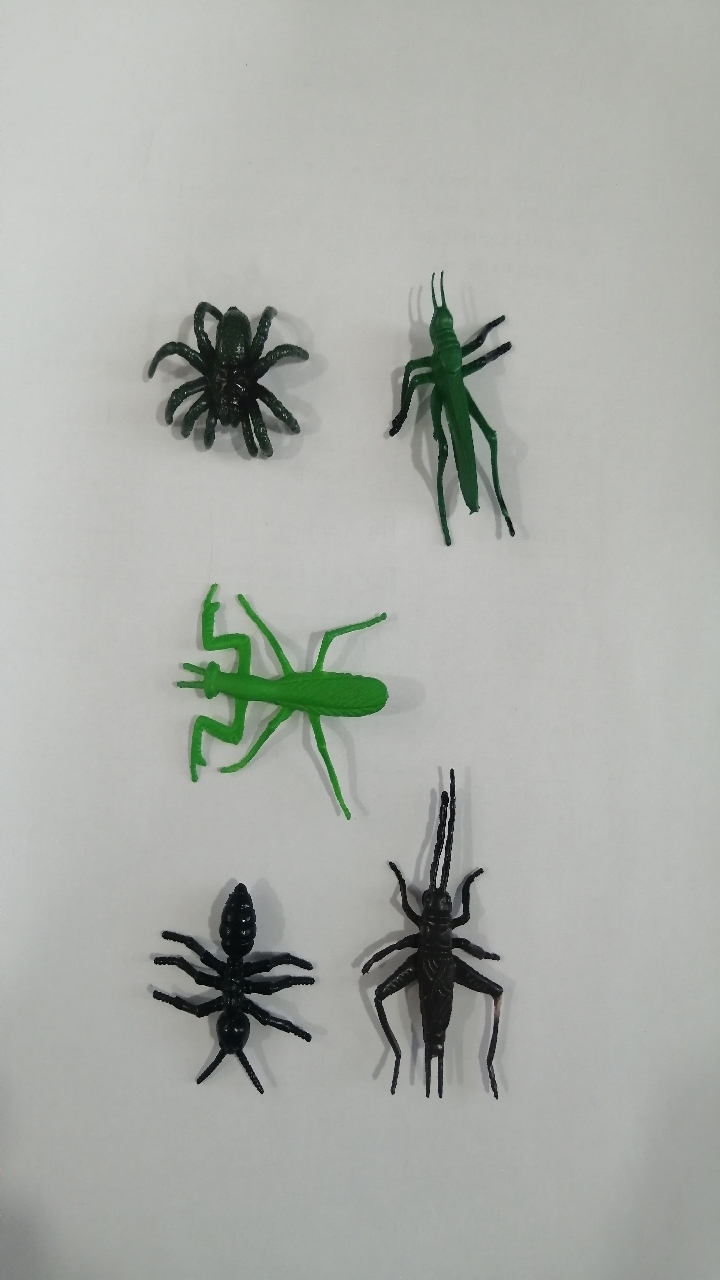intruso: (341, 751, 549, 1128), (146, 557, 408, 837), (358, 257, 548, 565), (109, 259, 341, 503), (129, 859, 326, 1115)
